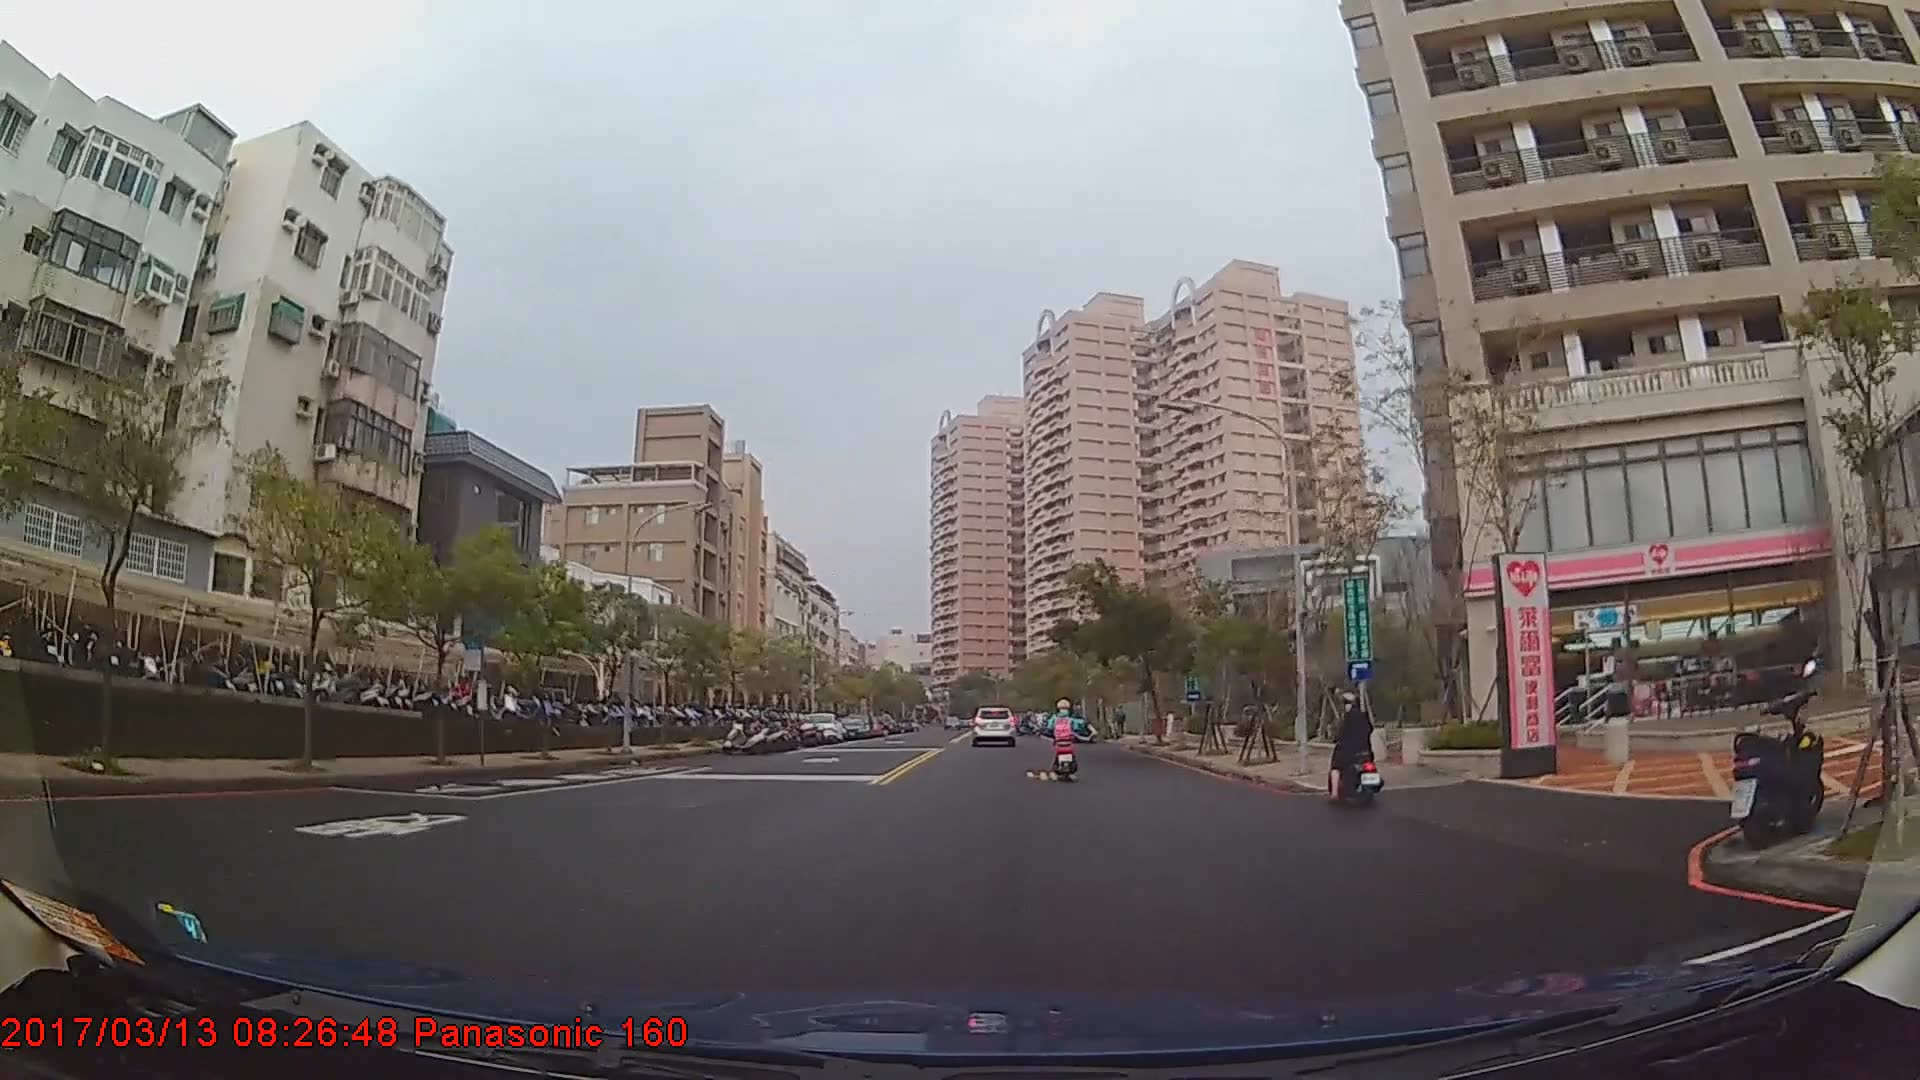rider: (1326, 691, 1387, 807), (1048, 698, 1085, 779)
vehicle: (967, 705, 1018, 744), (797, 714, 839, 744)
